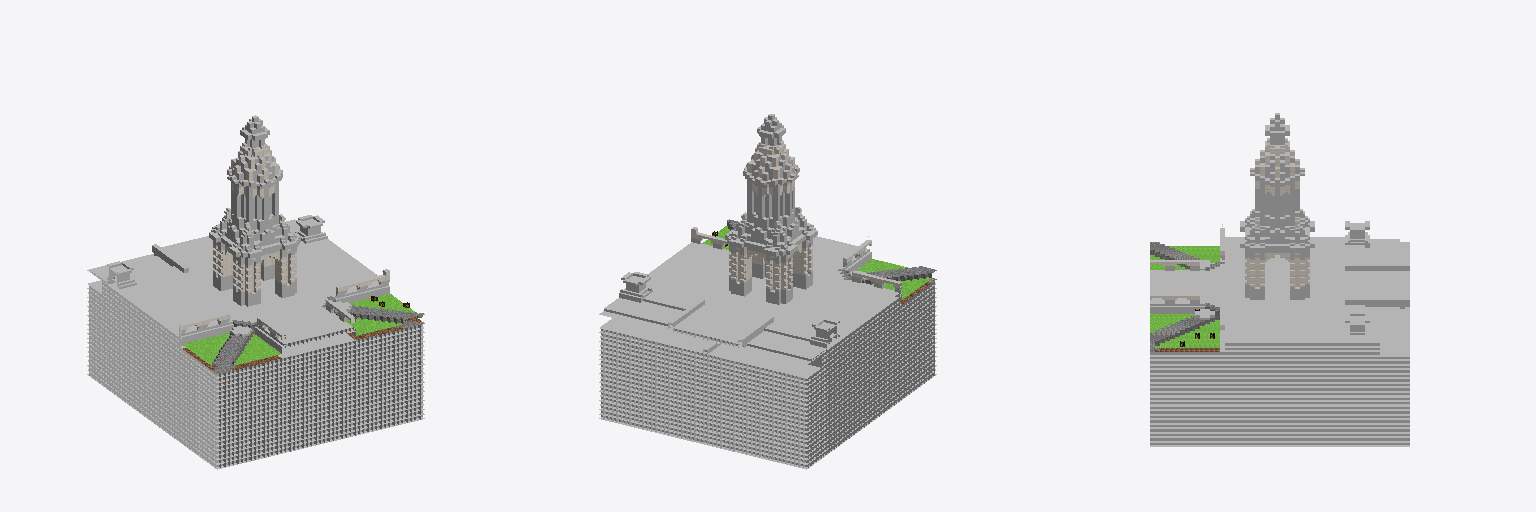
3 renders of one model, left to right at view 1: azimuth 30°, elevation 25°; view 2: azimuth 150°, elevation 25°; view 3: azimuth 270°, elevation 25°, orthographic.
Visible parts, largest first — view 1: t; view 2: t; view 3: t.
Boxes of the visible parts, box(x1,y1,x2,y2) form: t: box(87, 115, 424, 469); t: box(599, 114, 936, 469); t: box(1150, 113, 1409, 446).
Bounding box in the file's own units: 48 × 62 × 52.
Materials: 20 (5 with a texture image).